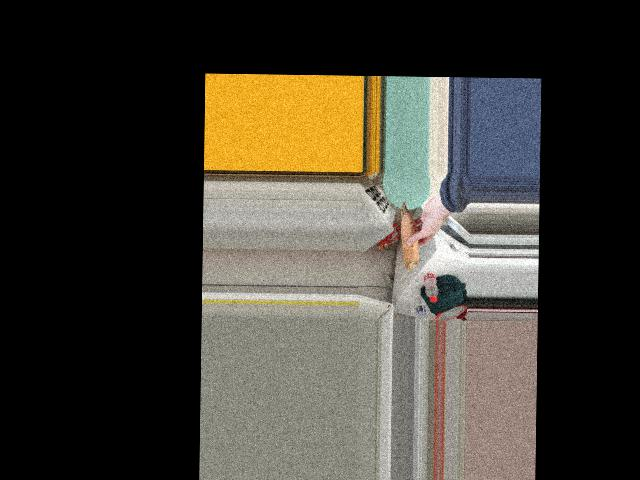sweet_potato: (394, 202, 420, 267)
